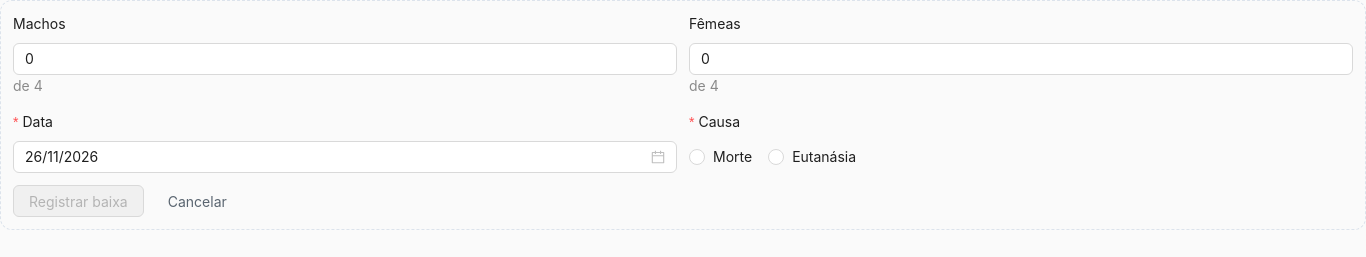
Scenario: baixa › a causa não tem padrão: sem escolher, não registra e o campo pede
This screenshot has width=1366, height=257.
Check: the radio button labelled "Morte" is not checked, box [689, 146, 760, 168]
Check: the radio button labelled "Eutanásia" is not checked, box [768, 146, 864, 168]
Replace the text in the number field labelled "Machos" with "1" at [345, 59], box [14, 44, 676, 74]
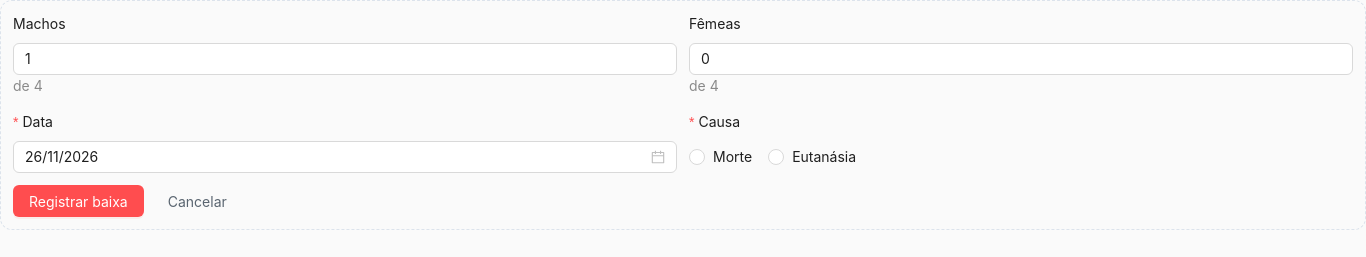
Click the button "Registrar baixa" at [78, 201], box [13, 185, 144, 217]
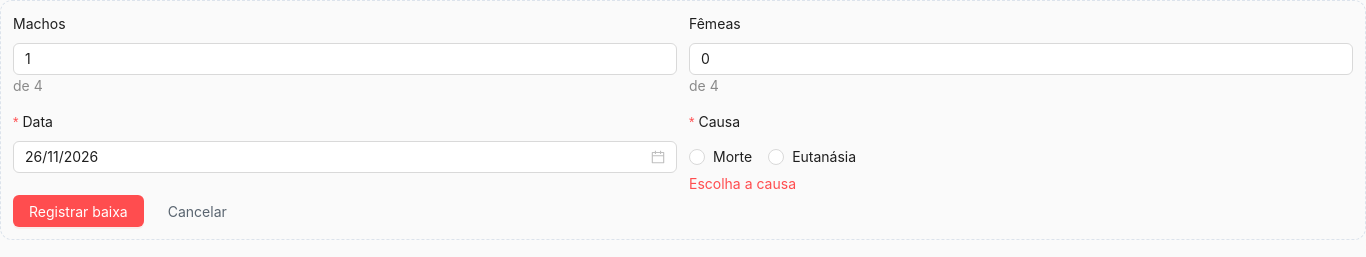
Check: the text "Escolha a causa" is shown, box [689, 175, 796, 192]
